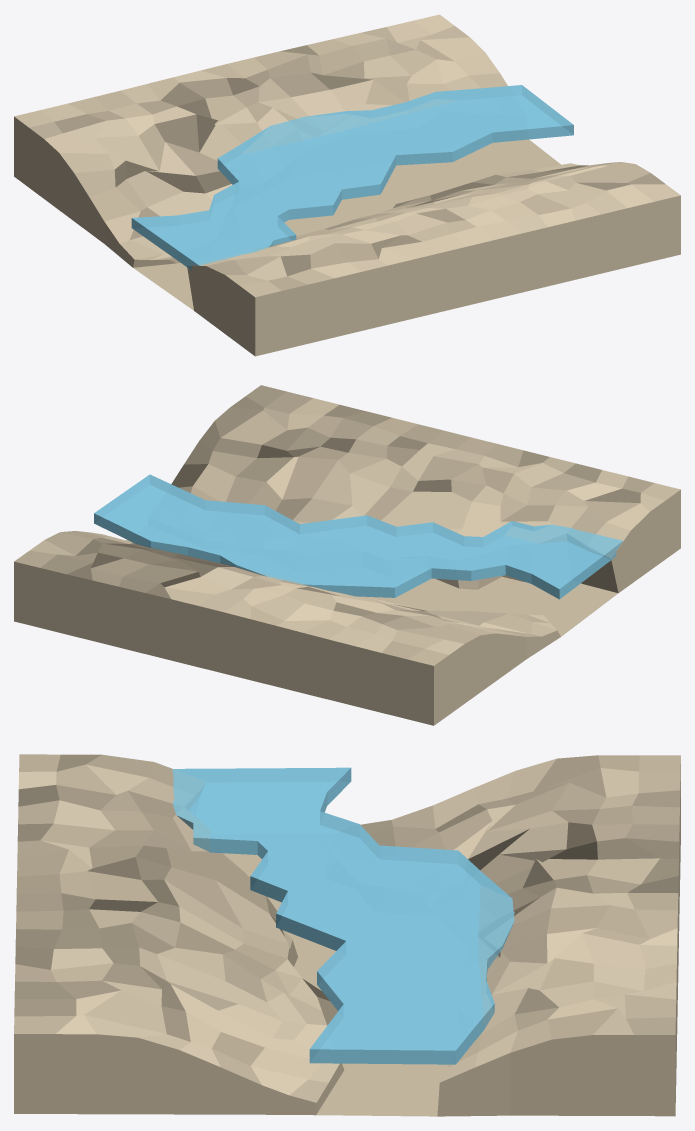
File: river_stream.glb
3 views of the same model, one above another, from view 1: azimuth 30°, elevation 25°; view 2: azimuth 150°, elevation 25°; view 3: azimuth 270°, elevation 25° (orthographic). The views are drawn at different scales.
Parts seen in each view (by area): view 1: river_stream; view 2: river_stream; view 3: river_stream.
Part boxes in pixels (x1,y1,x2,y2): river_stream: (14, 14, 680, 356); river_stream: (14, 385, 680, 725); river_stream: (14, 754, 680, 1116).
Size of the model in its own units: 1 by 0.1383 by 0.9981.
